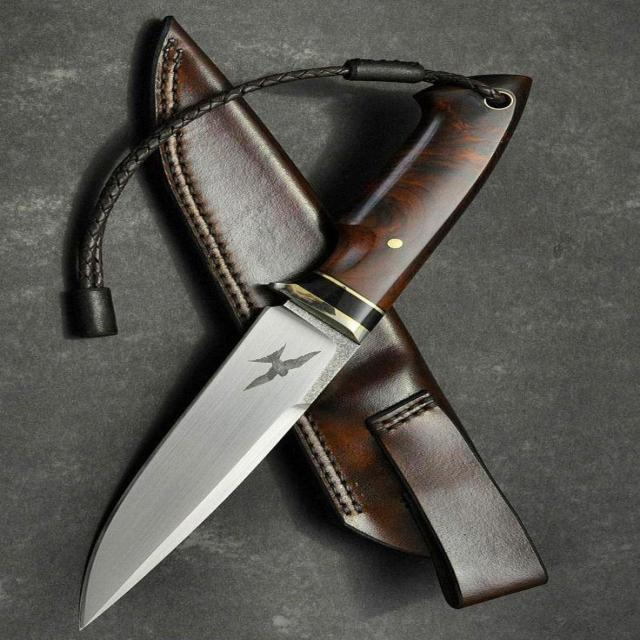short sword: (72, 65, 552, 638)
